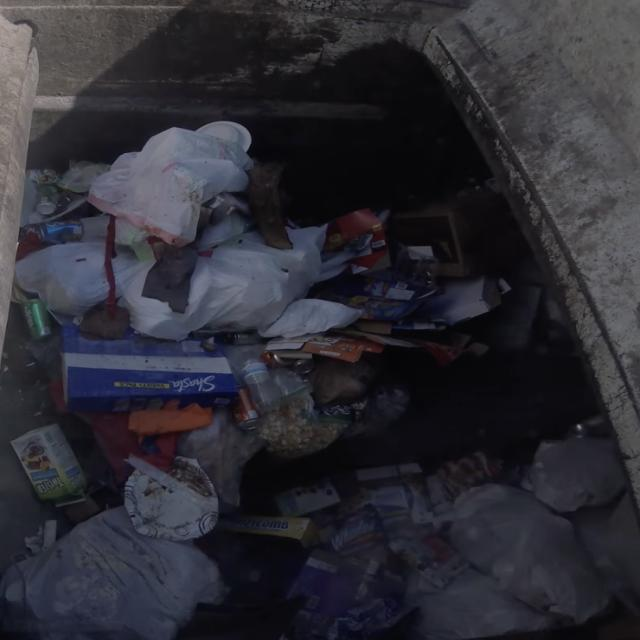bag: (411, 417, 640, 639), (55, 107, 321, 263)
paper: (40, 300, 255, 426), (252, 463, 404, 638), (269, 265, 522, 362), (109, 440, 238, 549), (318, 184, 478, 268), (3, 418, 94, 518)
